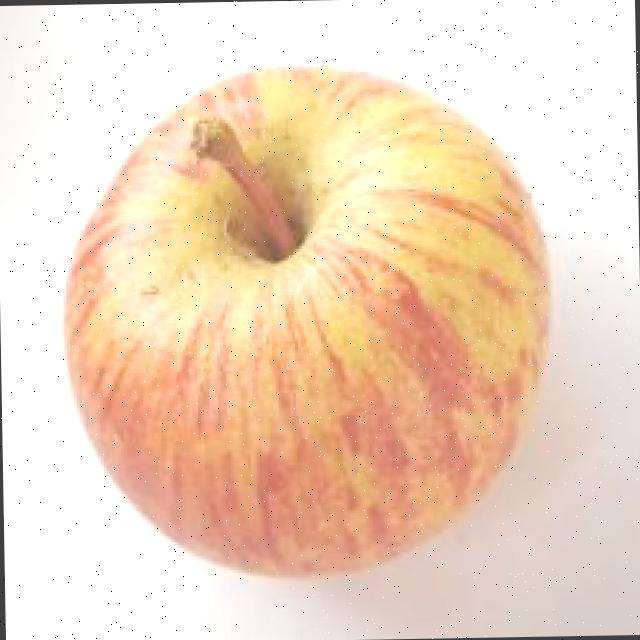apple: (17, 29, 610, 610)
